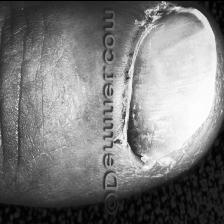Toxin: (119, 110, 174, 169)
